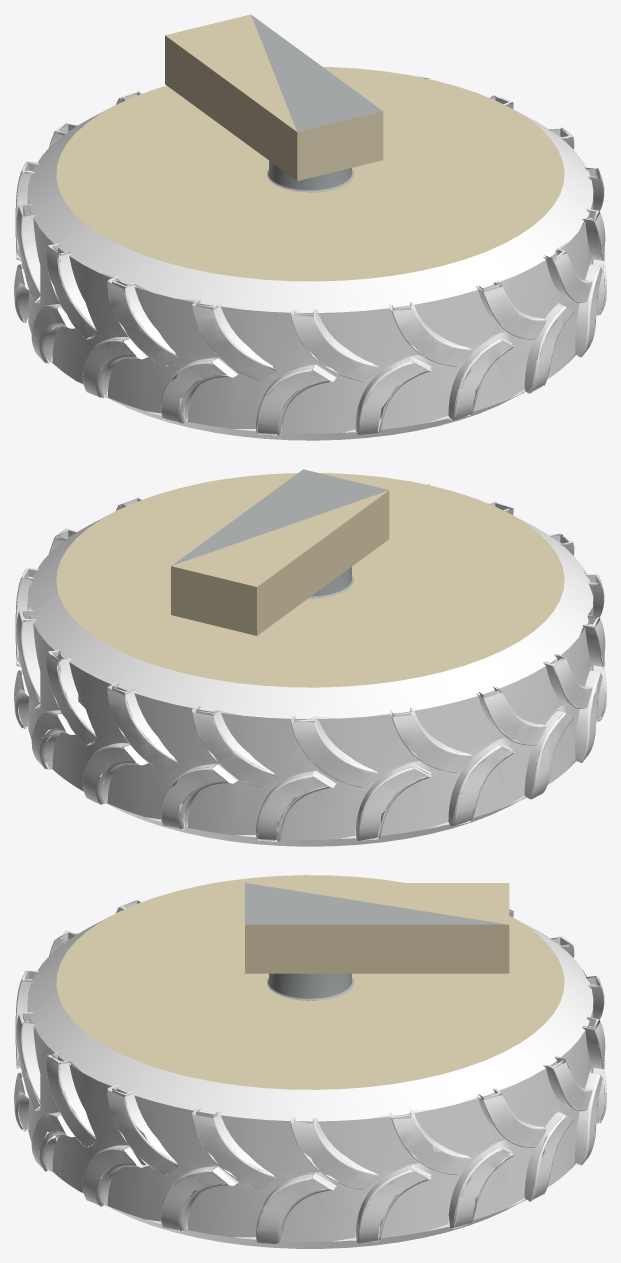
The model's file is rear_right_wheel_visual.obj.
3 renders of one model, top to bottom at view 1: azimuth 30°, elevation 25°; view 2: azimuth 150°, elevation 25°; view 3: azimuth 270°, elevation 25°, orthographic.
Parts seen in each view (by area): view 1: rear_right_wheel_visual; view 2: rear_right_wheel_visual; view 3: rear_right_wheel_visual.
Part boxes in pixels (x1,y1,x2,y2): rear_right_wheel_visual: (14,14,606,440); rear_right_wheel_visual: (14,469,606,846); rear_right_wheel_visual: (14,875,606,1248).
Size of the model in its own units: 0.86 by 0.4066 by 0.8598.
